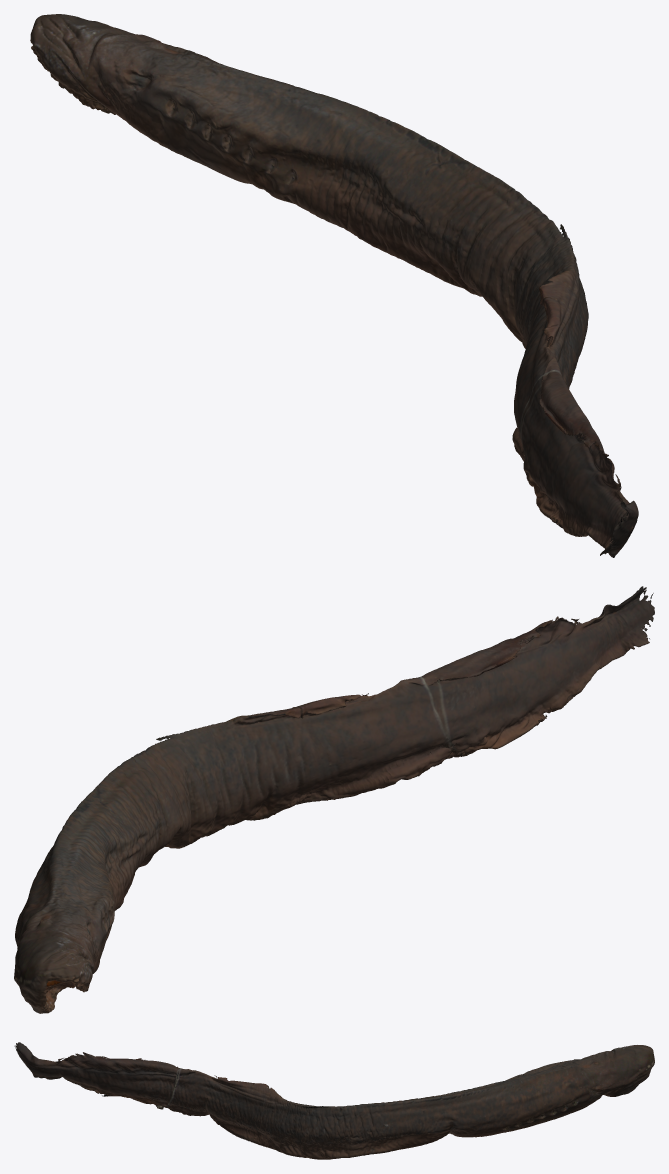
Rendered from lamprey.glb.
3 renders of one model, top to bottom at view 1: azimuth 30°, elevation 25°; view 2: azimuth 150°, elevation 25°; view 3: azimuth 270°, elevation 25°, orthographic. The views are drawn at different scales.
Visible parts, largest first — view 1: Object_3, Object_4, Object_5, Object_2, Object_6; view 2: Object_5, Object_3, Object_2, Object_6, Object_4; view 3: Object_6, Object_3, Object_5, Object_2, Object_4, Object_7.
Boxes of the visible parts, <box> form: Object_3: <box>30,14,571,327</box>; Object_4: <box>30,34,603,449</box>; Object_5: <box>506,199,633,554</box>; Object_2: <box>65,19,638,557</box>; Object_6: <box>417,133,638,512</box>; Object_5: <box>141,586,654,845</box>; Object_3: <box>14,727,223,1013</box>; Object_2: <box>30,589,654,951</box>; Object_6: <box>60,598,629,848</box>; Object_4: <box>15,630,531,1013</box>; Object_6: <box>24,1049,506,1159</box>; Object_3: <box>296,1045,654,1132</box>; Object_5: <box>16,1042,394,1158</box>; Object_2: <box>14,1042,633,1154</box>; Object_4: <box>69,1051,654,1149</box>; Object_7: <box>19,1052,308,1157</box>.
Size of the model in its own units: 0.2769 by 0.1417 by 1.13.
1 material, 1 textured.
